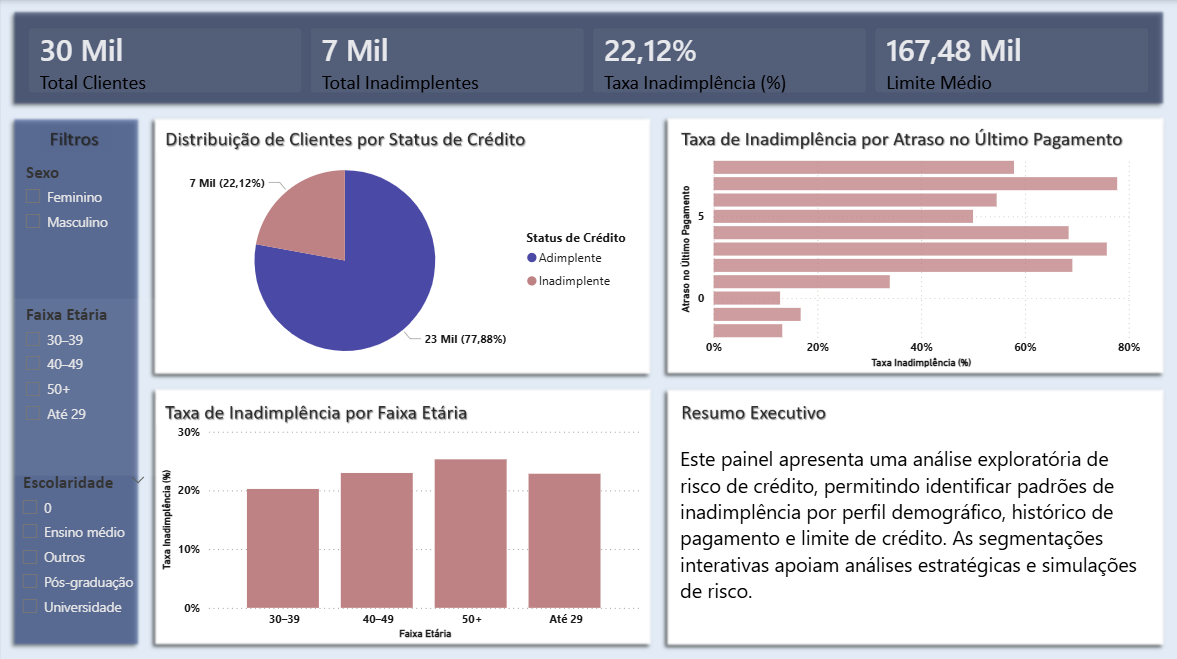

The dashboard page shown, as its layout file describes it:
{"tool":"powerbi","page":{"name":"Página 1","canvas":[1280,720],"ordinal":0},"visuals":[{"type":"cardVisual","fields":{"Data":["Tabela.Total Clientes","Tabela.Total Inadimplentes","Tabela.Taxa Inadimplência (%)","Tabela.Limite Médio"]},"box":[13,11.4,1254.1,109],"z":0},{"type":"pieChart","title":"Distribuição de Clientes por Status de Crédito","fields":{"Category":["Tabela.default_next_month"],"Y":["Tabela.Total Clientes"]},"box":[172.4,144.8,528.6,274.9],"z":1000},{"type":"clusteredBarChart","title":"Taxa de Inadimplência por Atraso no Último Pagamento","fields":{"Category":["Tabela.pay_0"],"Y":["Tabela.Taxa Inadimplência (%)"]},"box":[733.6,161,509.1,242.4],"z":2000},{"type":"columnChart","title":"Taxa de Inadimplência por Faixa Etária","fields":{"Category":["Tabela.Faixa Etária"],"Y":["Tabela.Taxa Inadimplência (%)"]},"box":[170.8,453.8,530.3,244],"z":3000},{"type":"slicer","fields":{"Values":["Tabela.Faixa Etária"]},"box":[16.3,323.7,156.1,191.9],"z":4000},{"type":"slicer","fields":{"Values":["Tabela.sex"]},"box":[16.3,169.2,156.1,154.5],"z":5000},{"type":"slicer","fields":{"Values":["Tabela.education"]},"box":[13,505.9,157.8,191.9],"z":6000},{"type":"textbox","box":[733.6,440.8,509.1,257],"z":7000}]}

Visuals, with their boxes in screenshot pixels (x1, y1, x2, y2), scaled from the page's 1280x720 canvas onto the 1177x659 screenshot:
cardVisual - Tabela.Total Clientes x Tabela.Total Inadimplentes: x1=12 y1=10 x2=1165 y2=110
"Distribuição de Clientes por Status de Crédito" pieChart: x1=159 y1=133 x2=645 y2=384
"Taxa de Inadimplência por Atraso no Último Pagamento" clusteredBarChart: x1=675 y1=147 x2=1143 y2=369
"Taxa de Inadimplência por Faixa Etária" columnChart: x1=157 y1=415 x2=645 y2=639
slicer - Tabela.Faixa Etária: x1=15 y1=296 x2=159 y2=472
slicer - Tabela.sex: x1=15 y1=155 x2=159 y2=296
slicer - Tabela.education: x1=12 y1=463 x2=157 y2=639
textbox: x1=675 y1=403 x2=1143 y2=639
